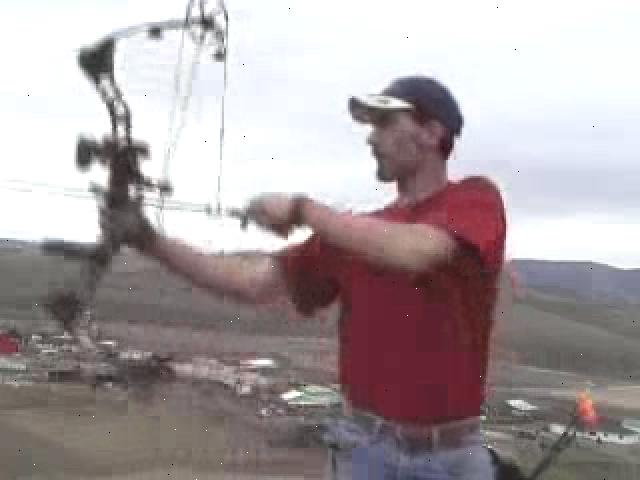P: (66, 66, 509, 480)
